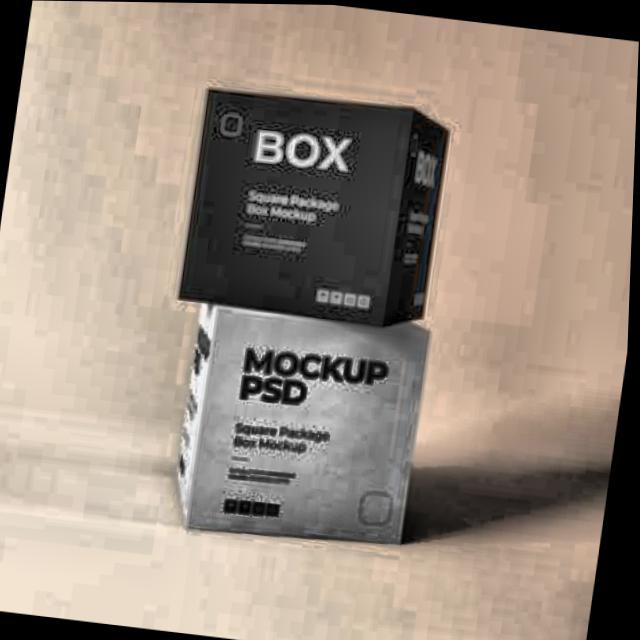Cardbox: (145, 55, 472, 352), (155, 289, 461, 557)
